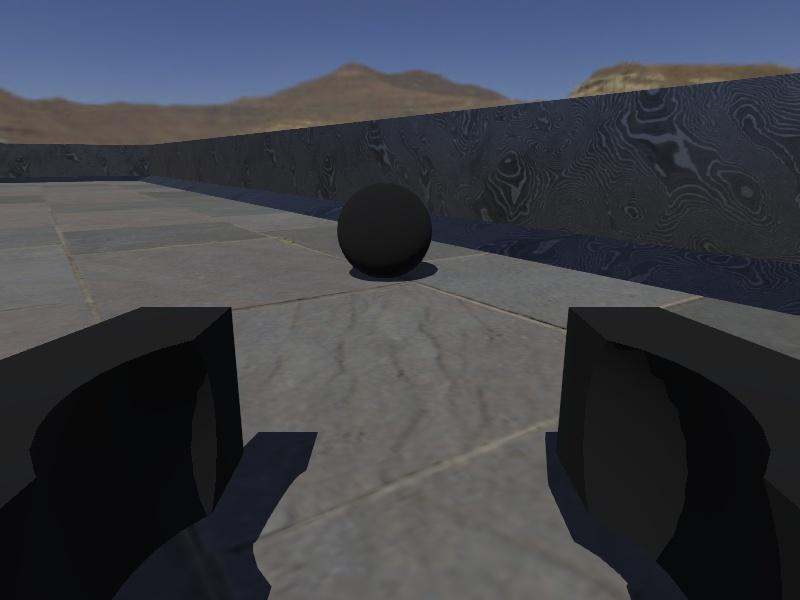black ball: (336, 179, 435, 278)
